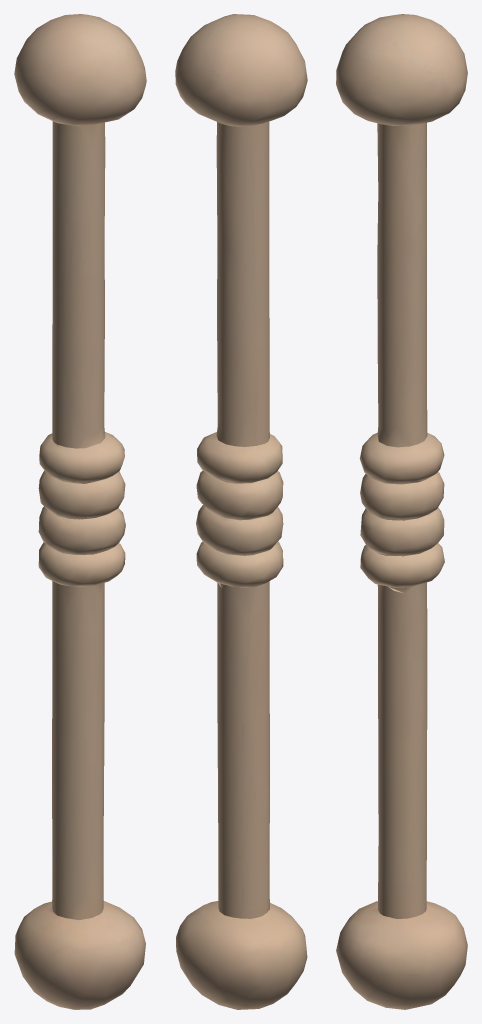
File: m2BalancePole.glb
3 views of the same model, side by side, from view 1: azimuth 30°, elevation 25°; view 2: azimuth 210°, elevation 25°; view 3: azimuth 270°, elevation 25° (orthographic).
Parts seen in each view (by area): view 1: model; view 2: model; view 3: model.
Boxes of the visible parts, x1,y1,x2,y2 form: model: [14, 14, 146, 1009]; model: [175, 14, 307, 1009]; model: [336, 14, 467, 1009].
Bounding box in the file's own units: 0.2242 × 1.9 × 0.2307.
1 material, 1 textured.
